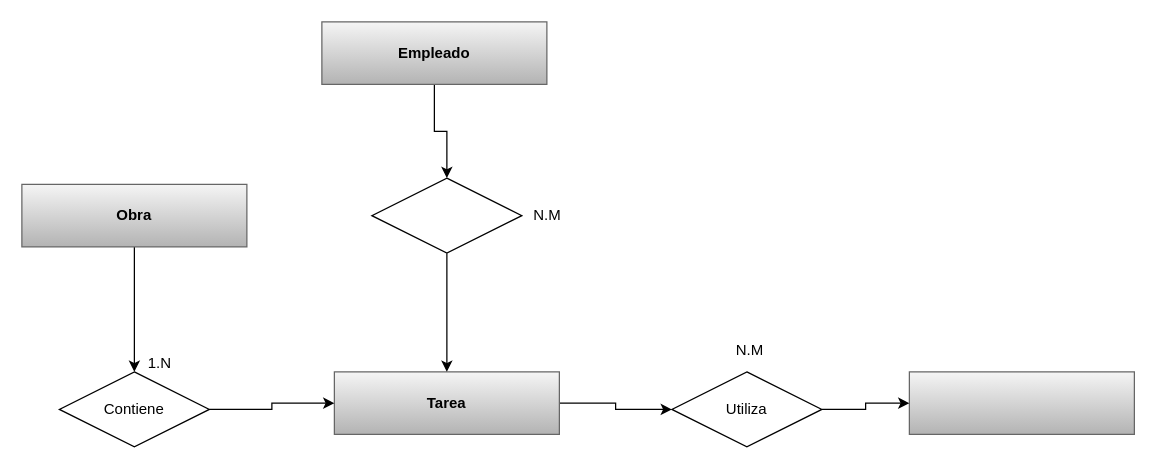
This 1156x469 diagram has some shape labels left out. Each missing label, with the centre of its shape:
Recurso: point (1021, 402)
Trabaja: point (446, 215)
